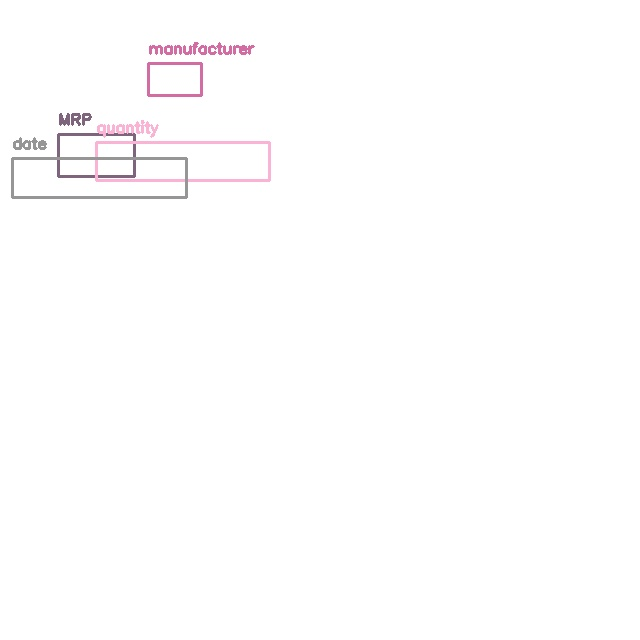MRP: (58, 134, 134, 176)
date: (12, 158, 186, 197)
manufacturer: (148, 63, 201, 95)
quantity: (96, 142, 269, 180)
